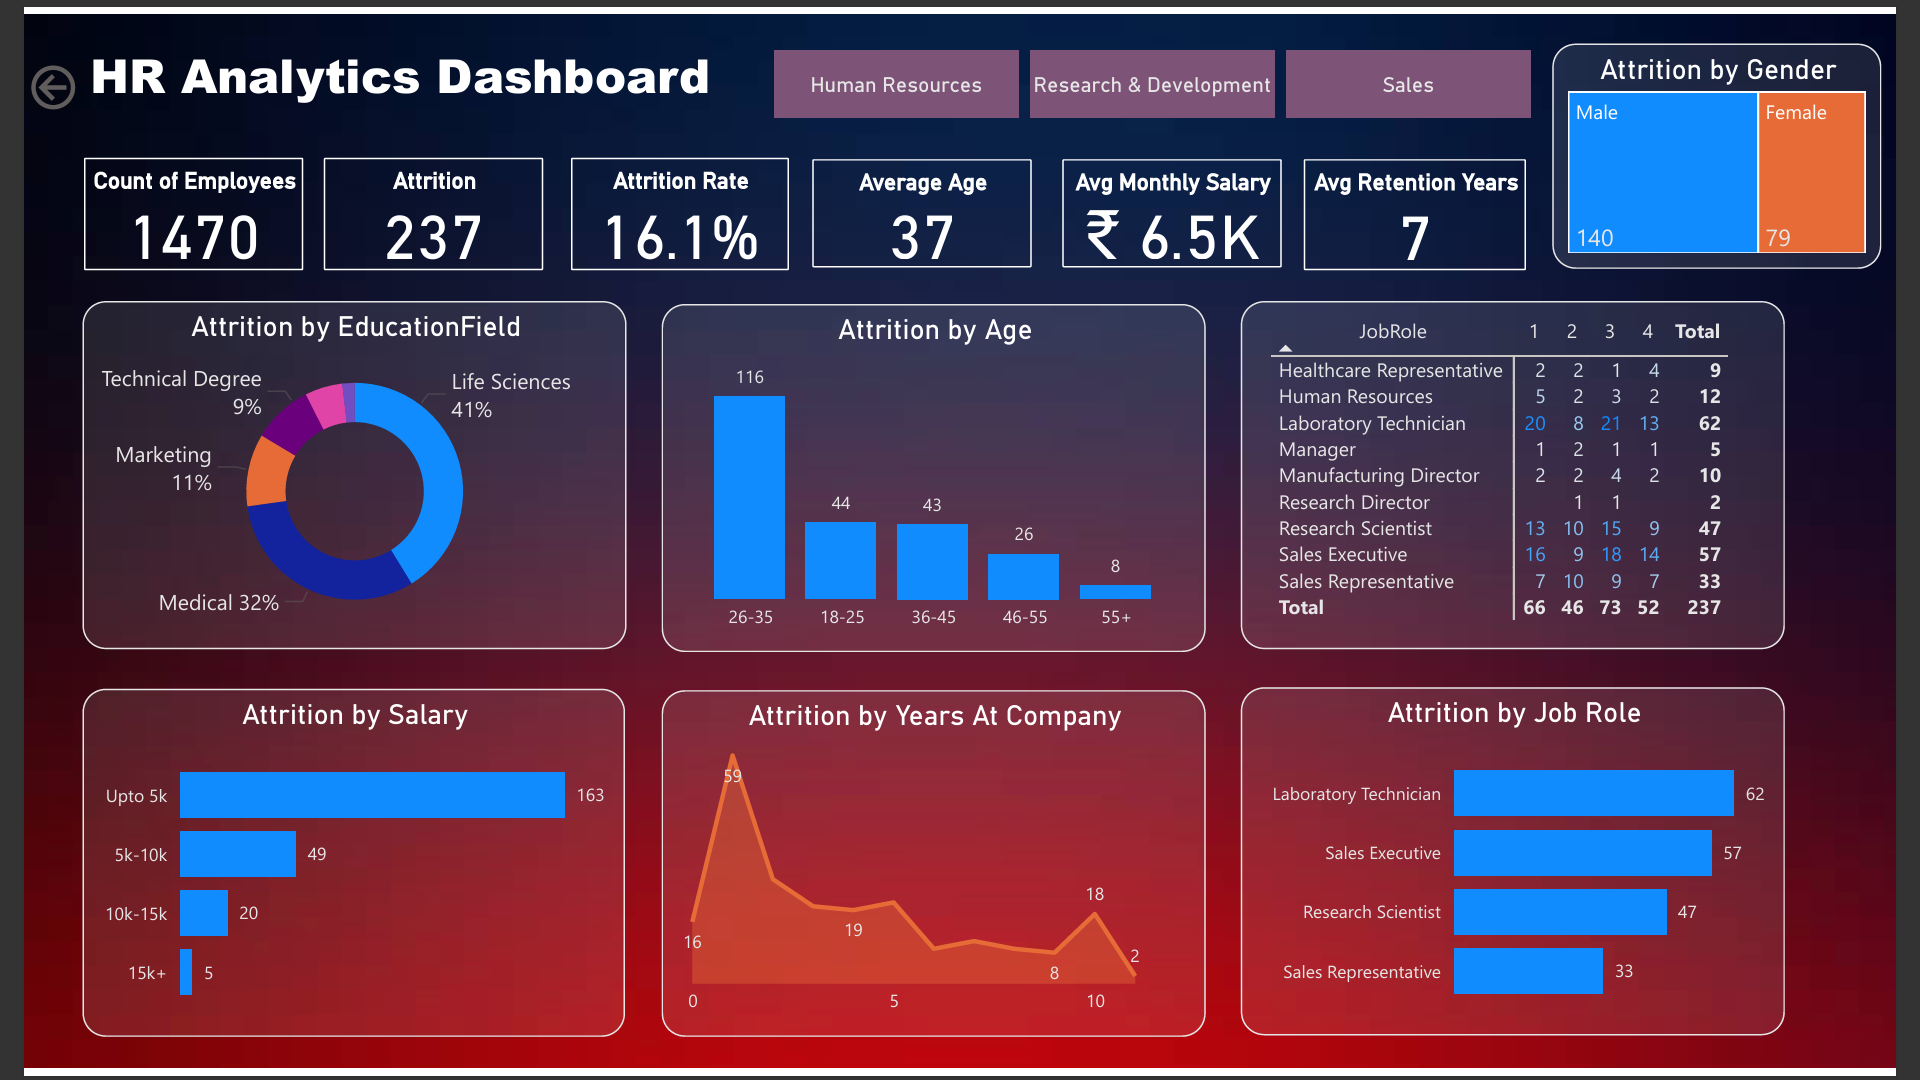

This screenshot's page, from the dashboard's own definition file:
{"tool":"powerbi","page":{"name":"Page 1","canvas":[1280,720],"ordinal":0},"visuals":[{"type":"card","title":"Count of Employees","fields":{"Values":["CountNonNull(HR_Analytics.EmpID)"]},"box":[40.7,98.3,149.8,76.7],"z":0},{"type":"actionButton","box":[0,30,100,40],"z":1000},{"type":"card","title":"Attrition","fields":{"Values":["HR_Analytics.Count of AttritionValue for 1"]},"box":[204.9,98.3,149.8,76.7],"z":2000},{"type":"card","title":"Attrition Rate","fields":{"Values":["HR_Analytics.AttritionRate"]},"box":[373.9,98.3,148.6,76.7],"z":3000},{"type":"card","title":"Average Age","fields":{"Values":["Avg(HR_Analytics.Age)"]},"box":[539.3,99.5,149.8,74.3],"z":4000},{"type":"card","title":"Avg Retention Years","fields":{"Values":["Avg(HR_Analytics.YearsAtCompany)"]},"box":[874.9,99.5,152.2,75.5],"z":5000},{"type":"card","title":"Avg Monthly Salary","fields":{"Values":["Avg(HR_Analytics.MonthlyIncome)"]},"box":[709.5,99.5,149.8,74.3],"z":6000},{"type":"donutChart","title":"Attrition by EducationField","fields":{"Y":["CountNonNull(HR_Analytics.Attrition)"],"Category":["HR_Analytics.EducationField"]},"box":[40.4,195.9,372.2,238.1],"z":7000},{"type":"pivotTable","fields":{"Rows":["HR_Analytics.JobRole"],"Columns":["HR_Analytics.JobSatisfaction"],"Values":["HR_Analytics.Count of AttritionValue for 1"]},"box":[832.5,196.2,372.2,238.1],"z":8000},{"type":"barChart","title":"Attrition by Salary","fields":{"Category":["HR_Analytics.SalarySlab"],"Y":["HR_Analytics.Count of AttritionValue for 1"]},"box":[40.4,461.4,370.8,238.1],"z":9000},{"type":"barChart","title":"Attrition by Job Role","fields":{"Category":["HR_Analytics.JobRole"],"Y":["HR_Analytics.Count of AttritionValue for 1"]},"box":[832.5,460.2,372.2,238.1],"z":10000},{"type":"columnChart","title":"Attrition by Age","fields":{"Category":["HR_Analytics.AgeGroup"],"Y":["HR_Analytics.Count of AttritionValue for 1"]},"box":[435.7,197.7,372.2,238.1],"z":11000},{"type":"areaChart","title":"Attrition by Years At Company","fields":{"Category":["HR_Analytics.YearsAtCompany"],"Y":["HR_Analytics.Count of AttritionValue Count"]},"box":[435.7,461.7,372.2,236.6],"z":12000},{"type":"treemap","title":"Attrition by Gender","fields":{"Group":["HR_Analytics.Gender"],"Values":["HR_Analytics.Count of AttritionValue Count"]},"box":[1044.6,20.2,225.1,154.4],"z":13000},{"type":"advancedSlicerVisual","fields":{"Values":["HR_Analytics.Department"]},"box":[508.2,20.4,527.3,56.3],"z":14000},{"type":"textbox","box":[40.4,14.4,506.4,83.7],"z":15000}]}

Visuals, with their boxes in screenshot pixels (x1, y1, x2, y2), scaled from the page's 1280x720 canvas onto the 1920x1080 screenshot:
"Count of Employees" card: box=[61, 147, 286, 262]
actionButton: box=[0, 45, 150, 105]
"Attrition" card: box=[307, 147, 532, 262]
"Attrition Rate" card: box=[561, 147, 784, 262]
"Average Age" card: box=[809, 149, 1034, 261]
"Avg Retention Years" card: box=[1312, 149, 1541, 262]
"Avg Monthly Salary" card: box=[1064, 149, 1289, 261]
"Attrition by EducationField" donutChart: box=[61, 294, 619, 651]
pivotTable - HR_Analytics.JobRole x HR_Analytics.JobSatisfaction: box=[1249, 294, 1807, 651]
"Attrition by Salary" barChart: box=[61, 692, 617, 1049]
"Attrition by Job Role" barChart: box=[1249, 690, 1807, 1047]
"Attrition by Age" columnChart: box=[654, 297, 1212, 654]
"Attrition by Years At Company" areaChart: box=[654, 693, 1212, 1047]
"Attrition by Gender" treemap: box=[1567, 30, 1905, 262]
advancedSlicerVisual - HR_Analytics.Department: box=[762, 31, 1553, 115]
textbox: box=[61, 22, 820, 147]
